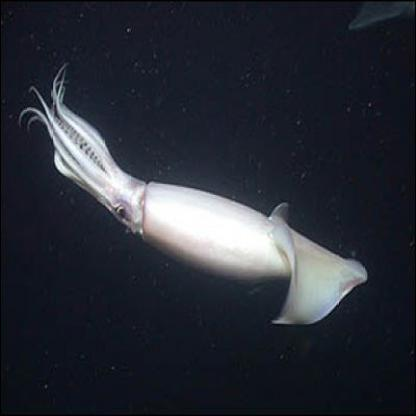colossal_squid: (18, 73, 374, 343)
